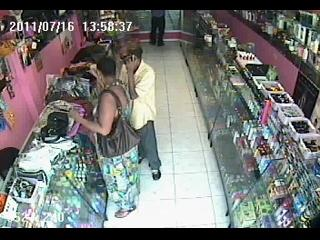Normal: (67, 57, 142, 219), (118, 42, 162, 181), (149, 10, 166, 46)
